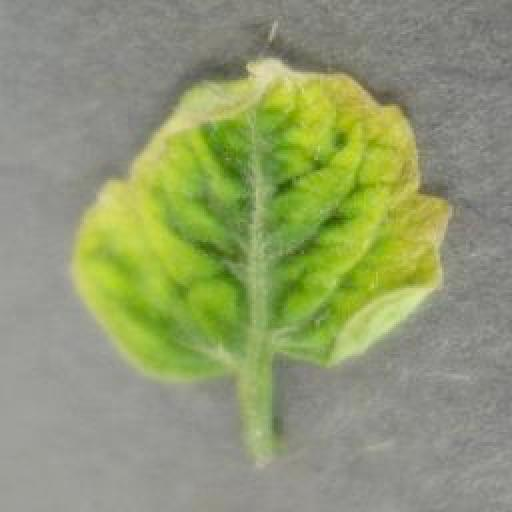disease_tomato: (68, 54, 456, 390)
